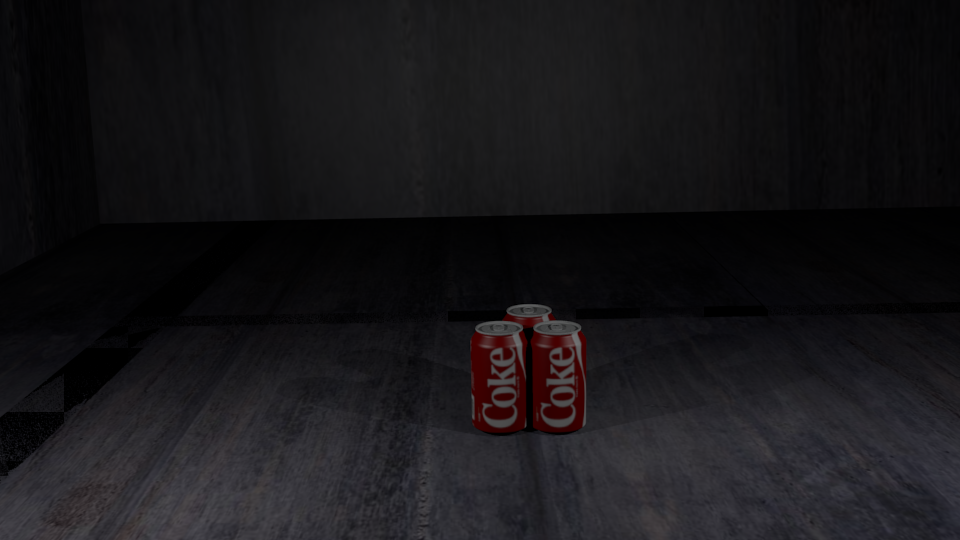cola_can: (471, 321, 527, 430), (529, 321, 585, 428), (502, 304, 555, 407)
